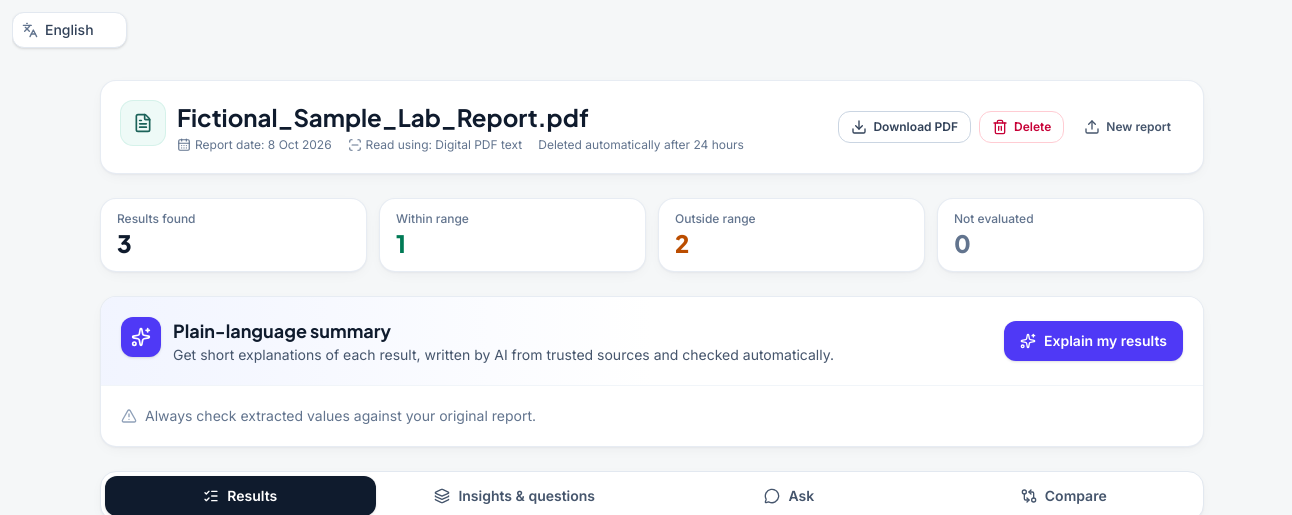
Scenario: report dashboard › loads AI explanations and labels them as AI
Click the button "Explain my results".
click(1094, 341)  # box [1004,321,1183,361]
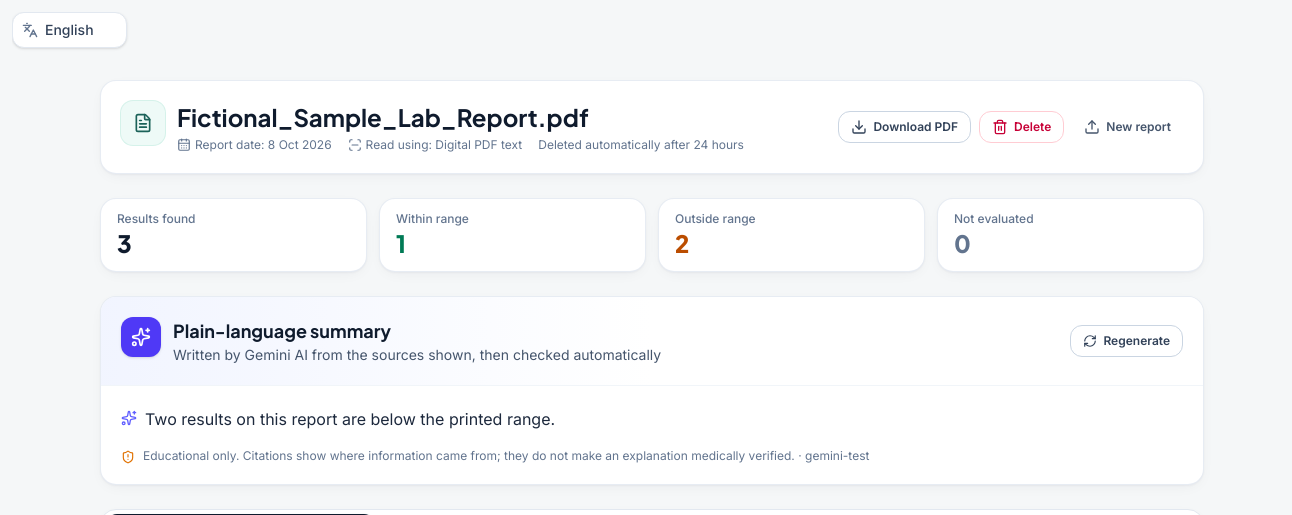
Now the text "Two results on this report are below the printed range." is shown, box [145,406,555,432]
Now the text "Written by Gemini AI" is shown, box [173,346,661,363]
